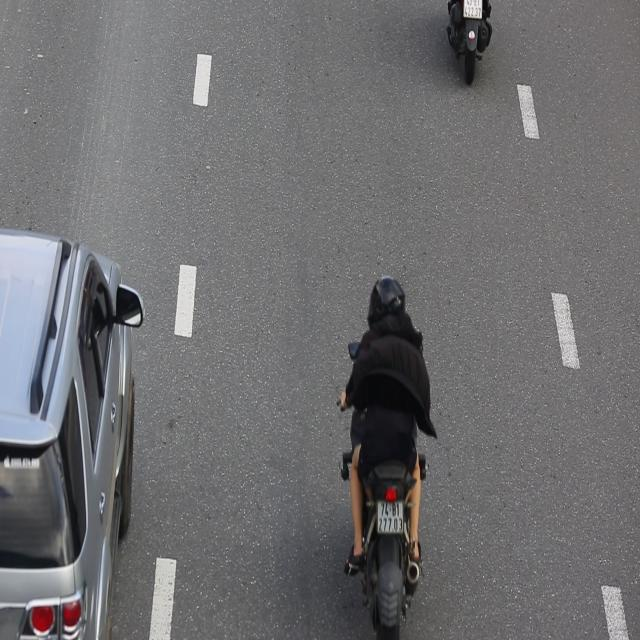motorbike: (332, 257, 439, 640)
